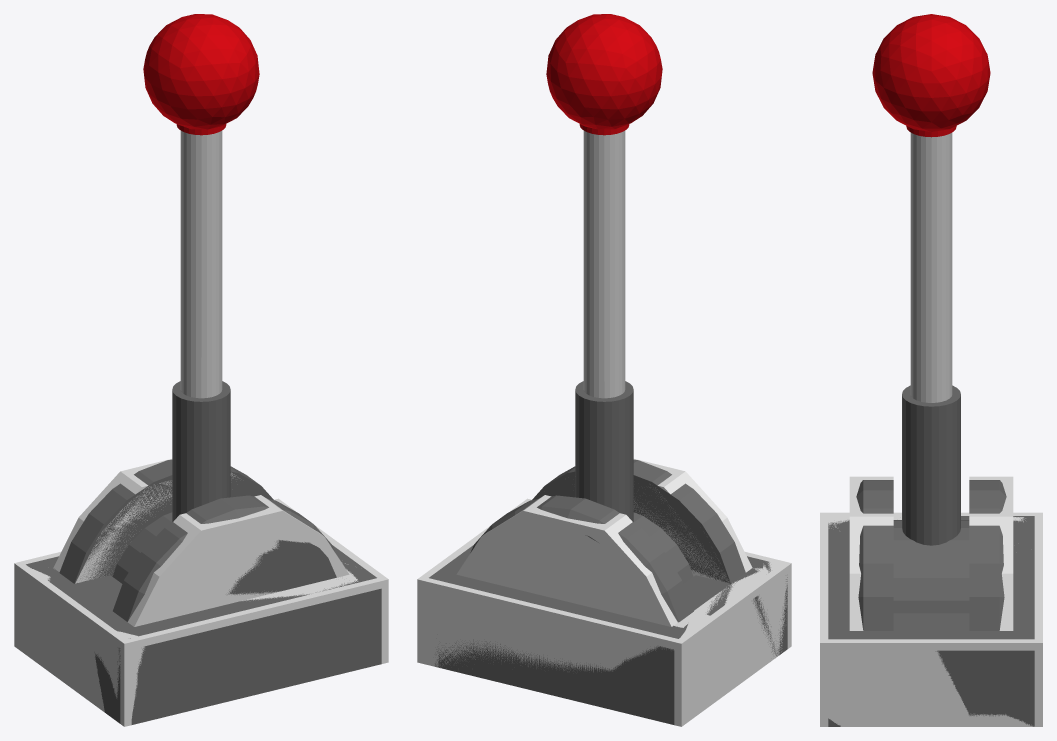
Rendered from Lever.fbx.
3 views of the same model, side by side, from view 1: azimuth 30°, elevation 25°; view 2: azimuth 150°, elevation 25°; view 3: azimuth 270°, elevation 25° (orthographic).
Visible parts, largest first — view 1: Base, Base.COL, Stick; view 2: Base.COL, Stick, Base; view 3: Stick, Base, Base.COL.
Part boxes in pixels (x1=…): Base: x1=26, y1=459, x2=381, y2=724; Base.COL: x1=14, y1=459, x2=388, y2=726; Stick: x1=112, y1=14, x2=259, y2=583; Base.COL: x1=417, y1=459, x2=791, y2=726; Stick: x1=546, y1=14, x2=693, y2=583; Base: x1=429, y1=459, x2=787, y2=724; Stick: x1=872, y1=14, x2=990, y2=613; Base: x1=828, y1=480, x2=1034, y2=726; Base.COL: x1=820, y1=476, x2=1042, y2=726.
Bounding box in the file's own units: 0.5224 × 1.2 × 0.3772.
